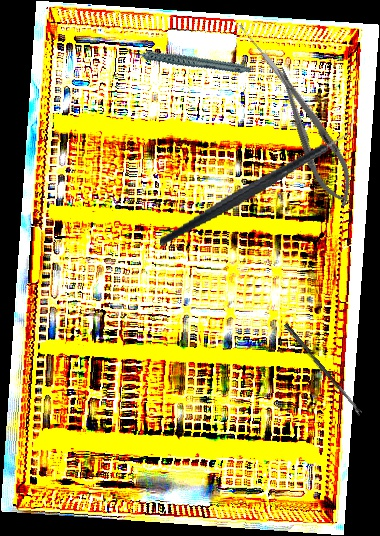Chopper: (144, 114, 370, 249)
Handpiece: (124, 20, 252, 99)
Needle Holder: (264, 59, 364, 213)
Surgical Spoon: (237, 22, 322, 125), (283, 322, 363, 417)
